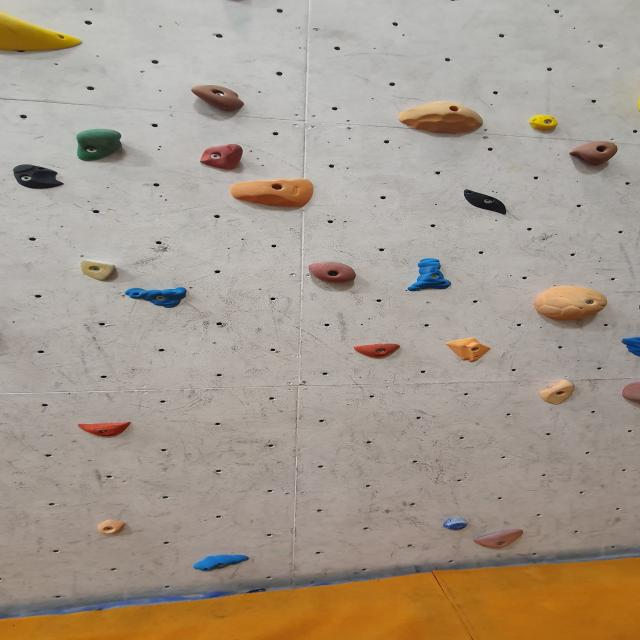Crimp: (122, 287, 188, 306), (470, 528, 526, 550), (192, 554, 252, 572), (75, 422, 137, 437), (78, 262, 120, 284), (352, 344, 406, 359), (524, 114, 560, 132), (622, 336, 640, 357), (443, 519, 470, 531)
Jug: (73, 128, 130, 162), (187, 85, 248, 114), (568, 143, 621, 169), (306, 262, 358, 286), (198, 144, 245, 170)
Pinch: (406, 253, 455, 291), (539, 380, 578, 404), (95, 519, 129, 537)
Sloper: (0, 2, 84, 54), (397, 101, 489, 136), (532, 288, 610, 324), (227, 178, 317, 208), (2, 162, 70, 190), (442, 339, 493, 363), (461, 191, 512, 214)
